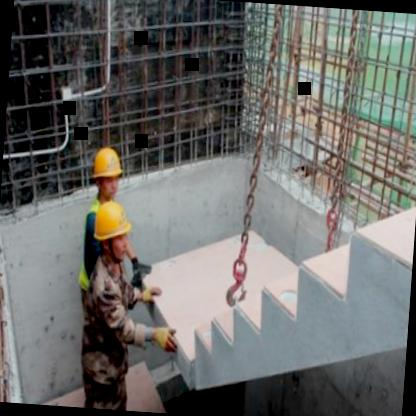helmet: (90, 194, 139, 270), (88, 140, 128, 204)
